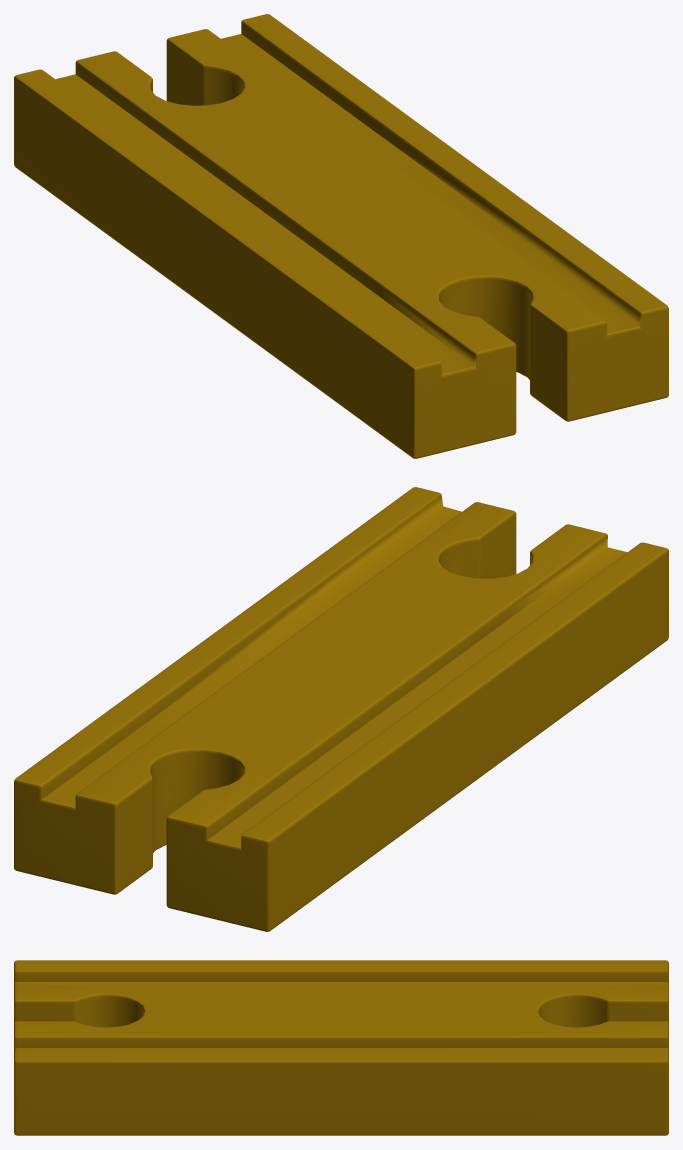
File: Railway_duoNeg_s.fbx
The picture shows the model from 3 angles, top to bottom: view 1: azimuth 30°, elevation 25°; view 2: azimuth 150°, elevation 25°; view 3: azimuth 270°, elevation 25°; orthographic projection. The views are drawn at different scales.
Visible parts, largest first — view 1: Railway_duoNeg_s; view 2: Railway_duoNeg_s; view 3: Railway_duoNeg_s.
Part boxes in pixels (x1,y1,x2,y2): Railway_duoNeg_s: (14,14,668,458); Railway_duoNeg_s: (14,487,668,931); Railway_duoNeg_s: (14,960,668,1135).
Bounding box in the file's own units: 73.85 × 25.44 × 200.
